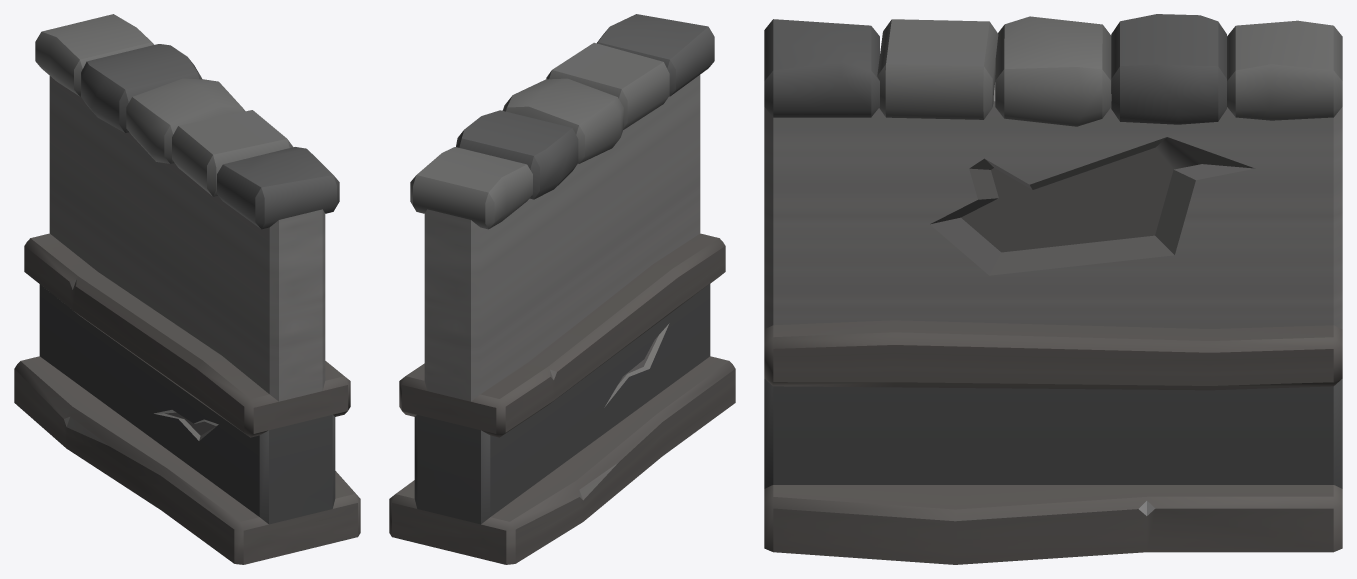
The model's file is Wall_1_3.obj.
The picture shows the model from 3 angles, left to right: view 1: azimuth 30°, elevation 25°; view 2: azimuth 150°, elevation 25°; view 3: azimuth 270°, elevation 25°; orthographic projection. The views are drawn at different scales.
Visible parts, largest first — view 1: Wall_1_3; view 2: Wall_1_3; view 3: Wall_1_3.
Boxes of the visible parts, <box> form: Wall_1_3: <box>14,14,360,564</box>; Wall_1_3: <box>389,14,735,564</box>; Wall_1_3: <box>764,14,1342,564</box>.
Bounding box in the file's own units: 0.7661 × 1.78 × 1.95.
